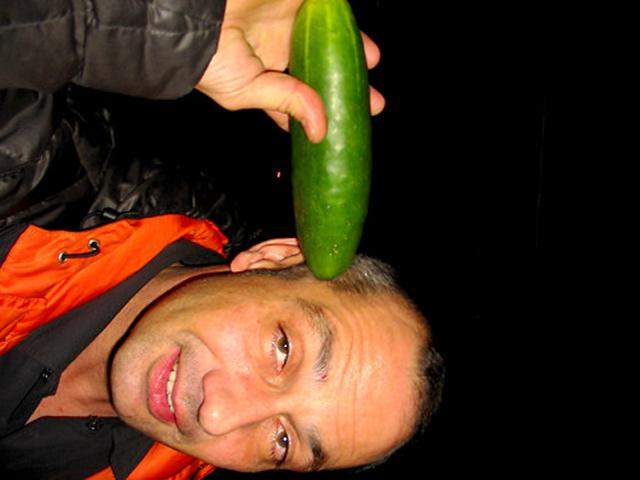cucumber: (289, 1, 369, 282)
